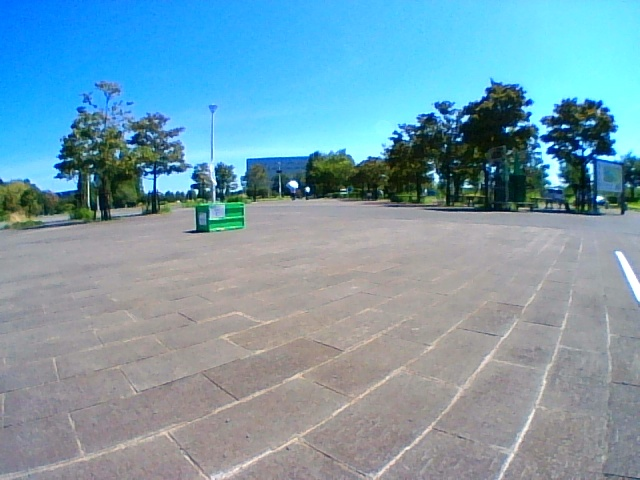green_box: (195, 203, 243, 231)
tag: (209, 205, 224, 218)
